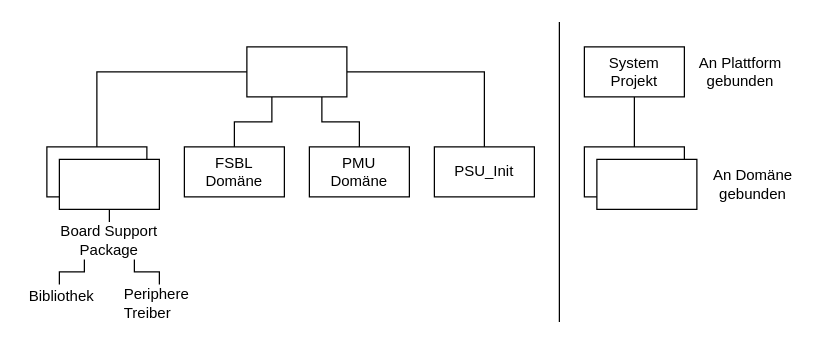
Image size: 818x345. Some labels were removed from this diagram. Each missing label, with the centre of its shape:
"Applikations Projekt" goes at (x=646, y=183).
"Domäne" goes at (x=108, y=183).
"Plattform Projekt" goes at (x=296, y=71).
